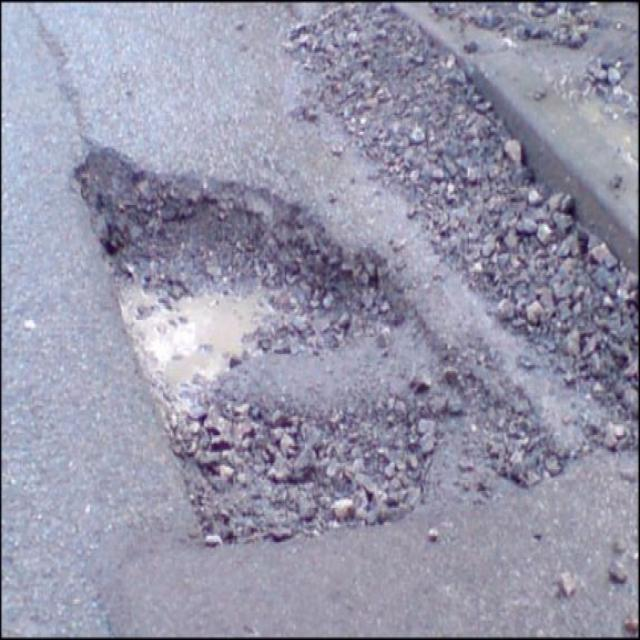pothole: (73, 137, 447, 550)
